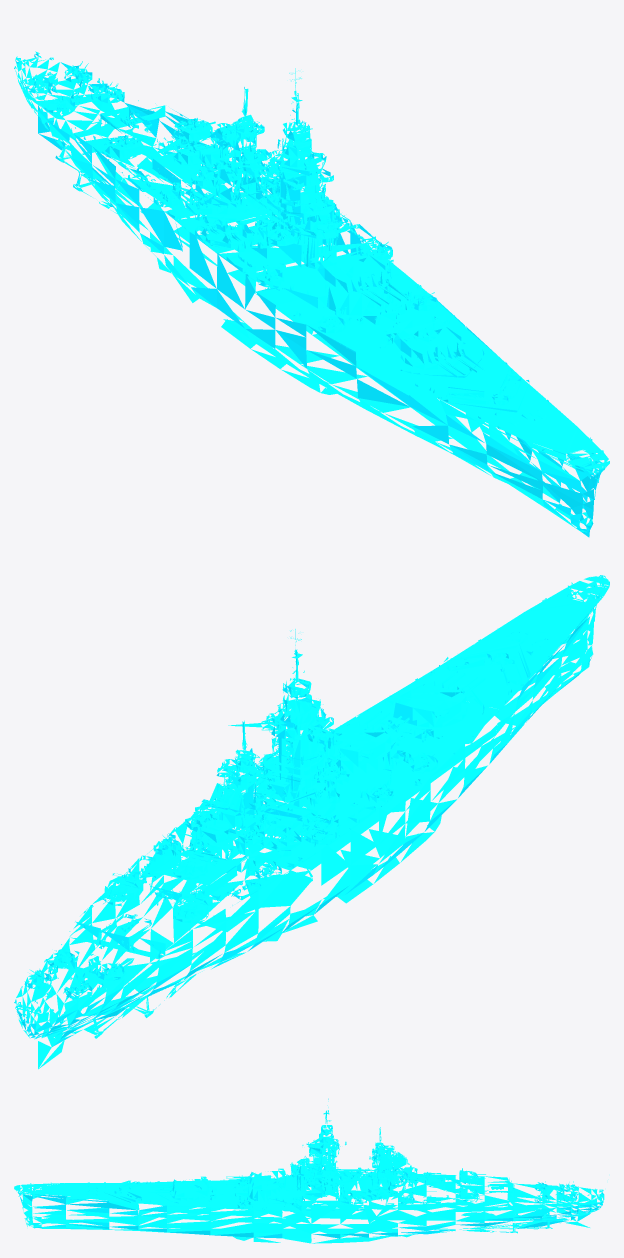
File: PFSB898.glb
3 renders of one model, top to bottom at view 1: azimuth 30°, elevation 25°; view 2: azimuth 150°, elevation 25°; view 3: azimuth 270°, elevation 25°, orthographic. The views are drawn at different scales.
Parts seen in each view (by area): view 1: hull_mid, hull_bow, hull_stern, main_battery, secondary_battery, hull_body, aa_mount; view 2: hull_mid, hull_bow, hull_stern, main_battery, secondary_battery, hull_body, aa_mount; view 3: hull_mid, hull_bow, hull_stern, main_battery, secondary_battery, hull_body, aa_mount.
Boxes of the visible parts, x1,y1,x2,y2 form: hull_mid: (55, 68, 513, 441); hull_bow: (406, 358, 609, 537); hull_stern: (14, 51, 159, 189); main_battery: (309, 244, 485, 377); secondary_battery: (98, 113, 328, 243); hull_body: (199, 114, 333, 220); aa_mount: (28, 61, 434, 328); hull_mid: (56, 629, 513, 1019); hull_bow: (406, 575, 609, 766); hull_stern: (14, 937, 159, 1069); main_battery: (320, 671, 485, 767); secondary_battery: (103, 797, 333, 920); hull_body: (199, 678, 333, 843); aa_mount: (29, 733, 434, 994); hull_mid: (146, 1098, 529, 1243); hull_bow: (14, 1180, 166, 1232); hull_stern: (513, 1183, 604, 1229); main_battery: (148, 1168, 285, 1198); secondary_battery: (337, 1167, 489, 1202); hull_body: (319, 1125, 417, 1178); aa_mount: (239, 1163, 574, 1206).
Bounding box in the file's own units: 2.21 × 4.02 × 16.66.
